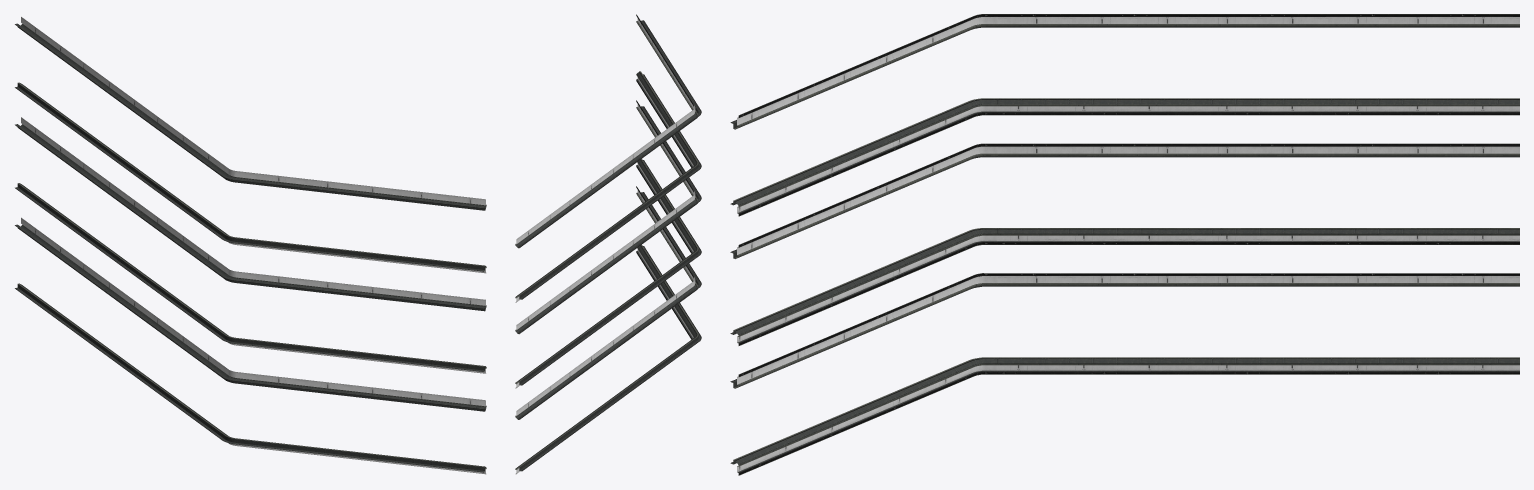
File: RearlFAC_Win01_Low.FBX
The picture shows the model from 3 angles, left to right: view 1: azimuth 30°, elevation 25°; view 2: azimuth 150°, elevation 25°; view 3: azimuth 270°, elevation 25°; orthographic projection. The views are drawn at different scales.
Parts seen in each view (by area): view 1: RearlFAC_Win01_Low; view 2: RearlFAC_Win01_Low; view 3: RearlFAC_Win01_Low.
Part boxes in pixels (<box>): RearlFAC_Win01_Low: <box>15,17,486,474</box>; RearlFAC_Win01_Low: <box>515,14,701,474</box>; RearlFAC_Win01_Low: <box>730,14,1519,475</box>.
Bounding box in the file's own units: 10.57 × 16.7 × 33.14.
